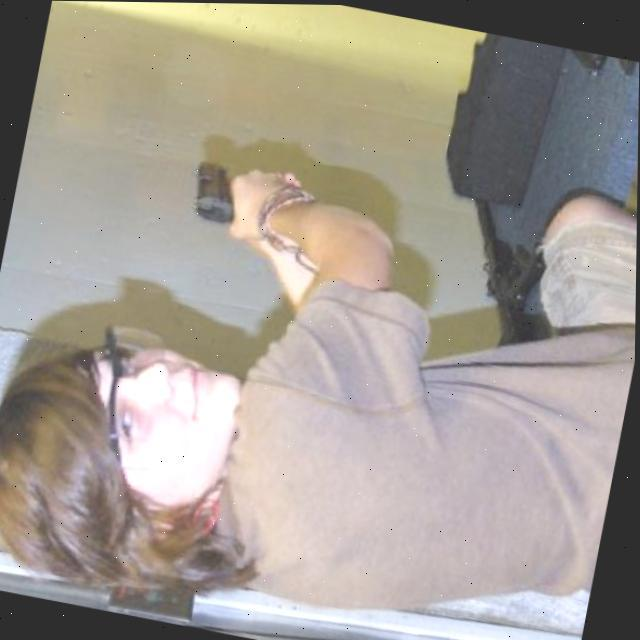gun: (184, 157, 248, 226)
